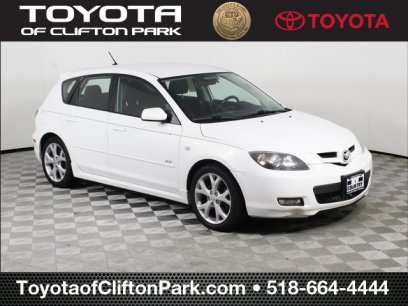Mazda3 Hatchback: (32, 62, 373, 232)
